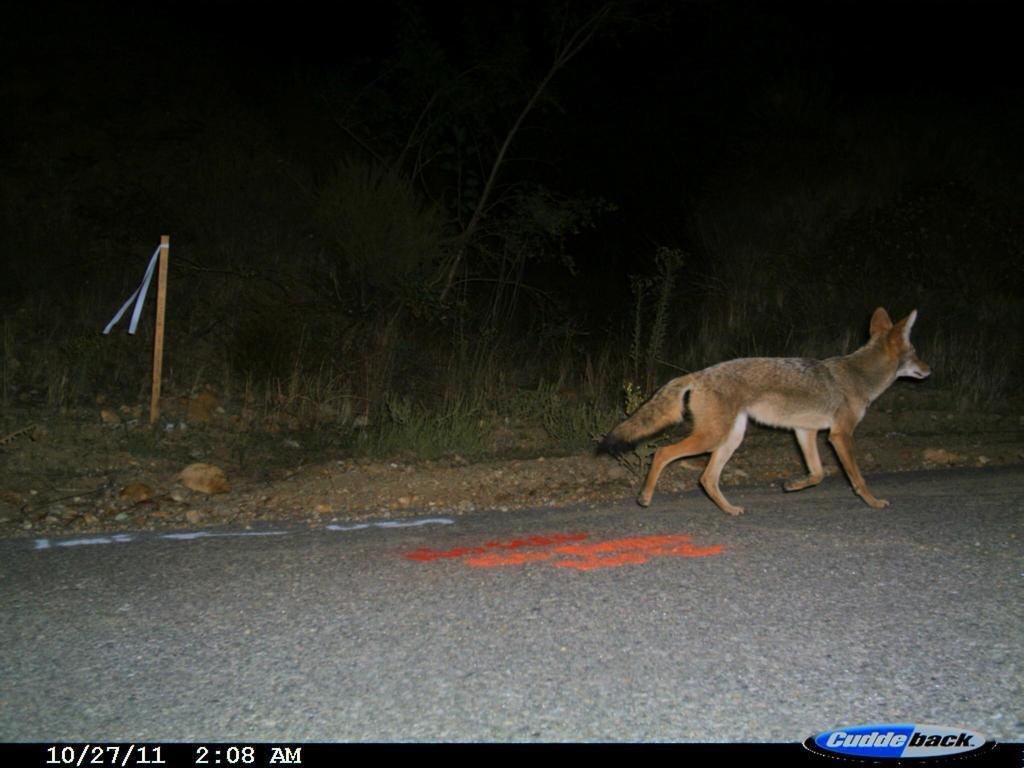coyote: (591, 290, 943, 520)
